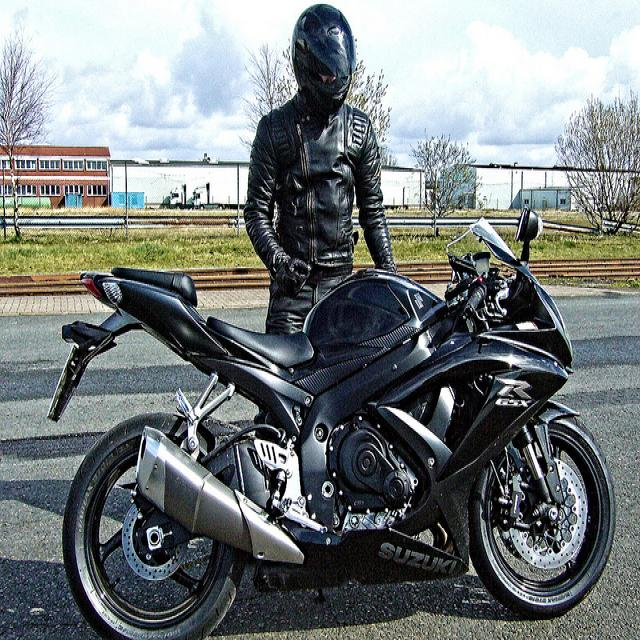motor: (35, 204, 619, 630)
